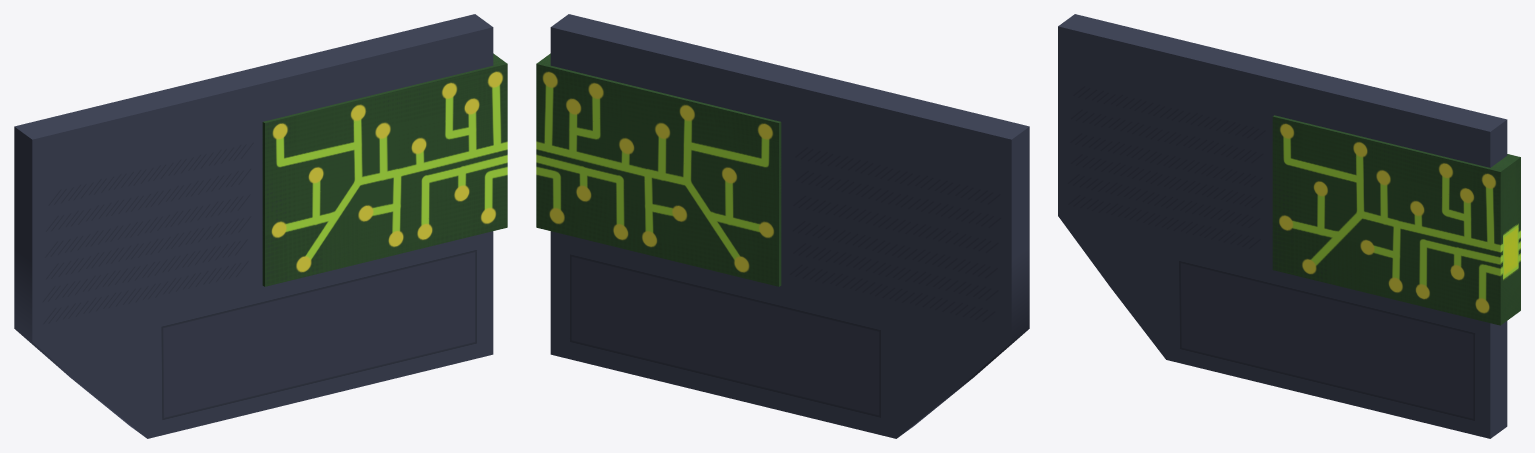
The model's file is Keycard.fbx.
3 views of the same model, side by side, from view 1: azimuth 30°, elevation 25°; view 2: azimuth 150°, elevation 25°; view 3: azimuth 330°, elevation 25° (orthographic). The views are drawn at different scales.
Parts seen in each view (by area): view 1: Keycard:Keycard1; view 2: Keycard:Keycard1; view 3: Keycard:Keycard1.
Boxes of the visible parts, bbox=[...] form: Keycard:Keycard1: bbox=[14, 14, 507, 438]; Keycard:Keycard1: bbox=[536, 14, 1029, 438]; Keycard:Keycard1: bbox=[1058, 14, 1520, 438].
Size of the model in its own units: 151 by 100 by 12.04.
